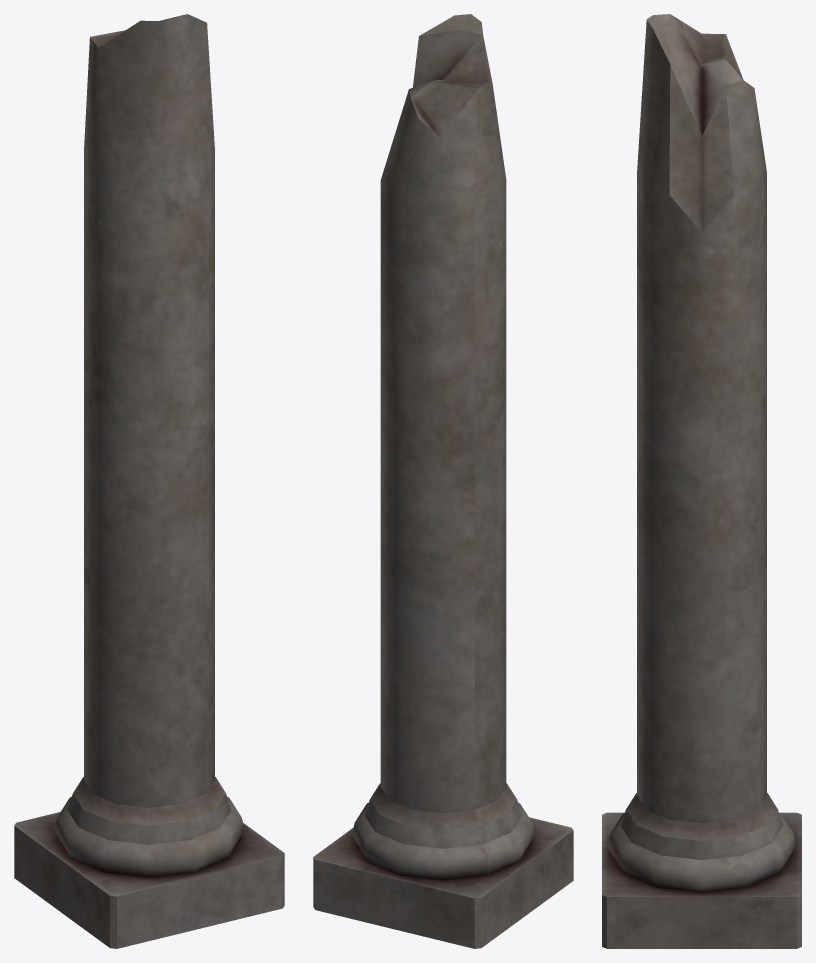
Rendered from sb_obj_outdoor009_AncientTemple_pillar03B.fbx.
The picture shows the model from 3 angles, left to right: view 1: azimuth 30°, elevation 25°; view 2: azimuth 150°, elevation 25°; view 3: azimuth 270°, elevation 25°; orthographic projection. The views are drawn at different scales.
Parts seen in each view (by area): view 1: sb_obj_outdoor009_AncientTemple_pillar03B; view 2: sb_obj_outdoor009_AncientTemple_pillar03B; view 3: sb_obj_outdoor009_AncientTemple_pillar03B.
Boxes of the visible parts, <box> form: sb_obj_outdoor009_AncientTemple_pillar03B: <box>14,14,284,948</box>; sb_obj_outdoor009_AncientTemple_pillar03B: <box>313,14,573,948</box>; sb_obj_outdoor009_AncientTemple_pillar03B: <box>602,14,801,948</box>.
Bounding box in the file's own units: 1.05 × 5.13 × 1.05.
